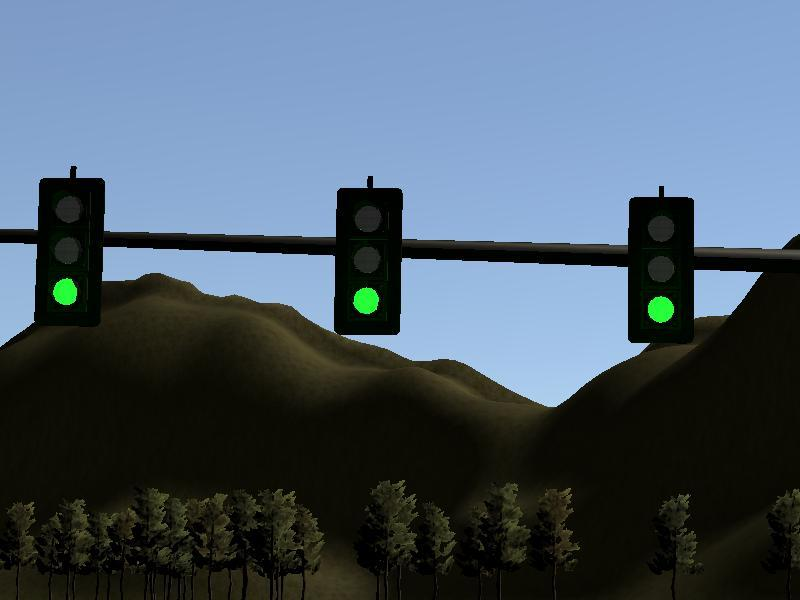Green: (631, 199, 696, 344), (335, 189, 400, 332), (38, 180, 97, 324)
